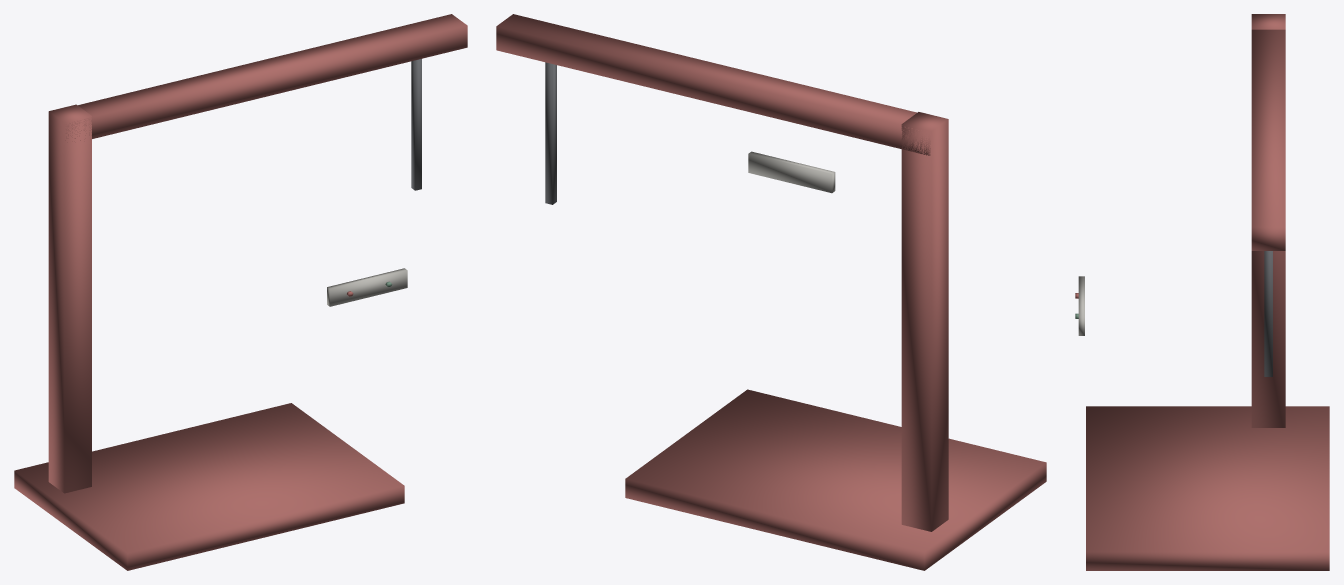
The model's file is engine_hoist__squat.glb.
The picture shows the model from 3 angles, left to right: view 1: azimuth 30°, elevation 25°; view 2: azimuth 150°, elevation 25°; view 3: azimuth 270°, elevation 25°; orthographic projection. The views are drawn at different scales.
Visible parts, largest first — view 1: world; view 2: world; view 3: world.
Boxes of the visible parts, x1,y1,x2,y2 form: world: (14, 14, 467, 570); world: (496, 14, 1046, 570); world: (1075, 14, 1329, 570).
Size of the model in its own units: 1.66 by 1.47 by 0.8111.
